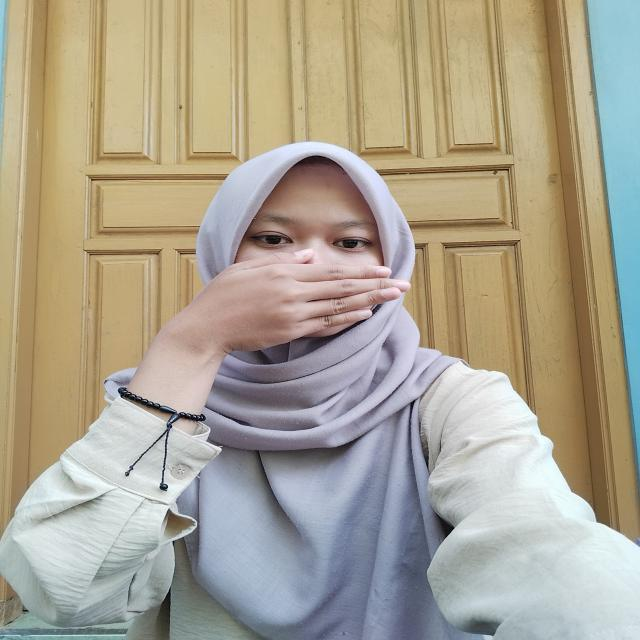buruk: (175, 236, 419, 358)
